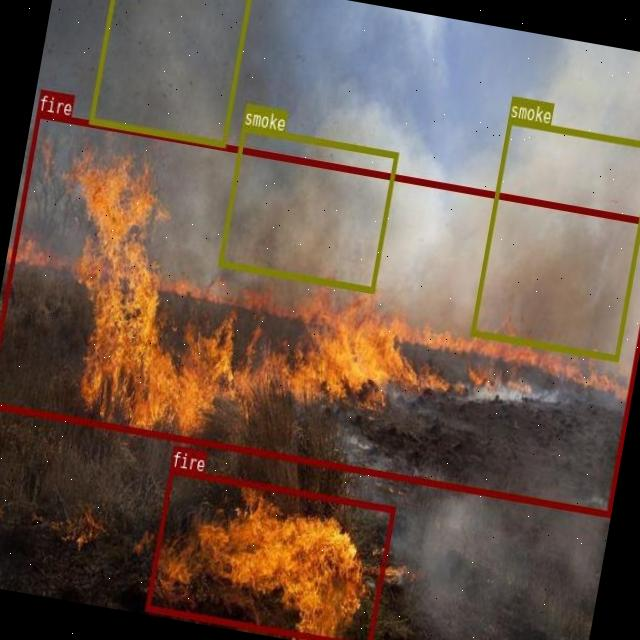fire: (0, 110, 640, 515), (144, 466, 395, 640)
smoke: (469, 116, 640, 360), (217, 125, 397, 292), (88, 0, 251, 146)
